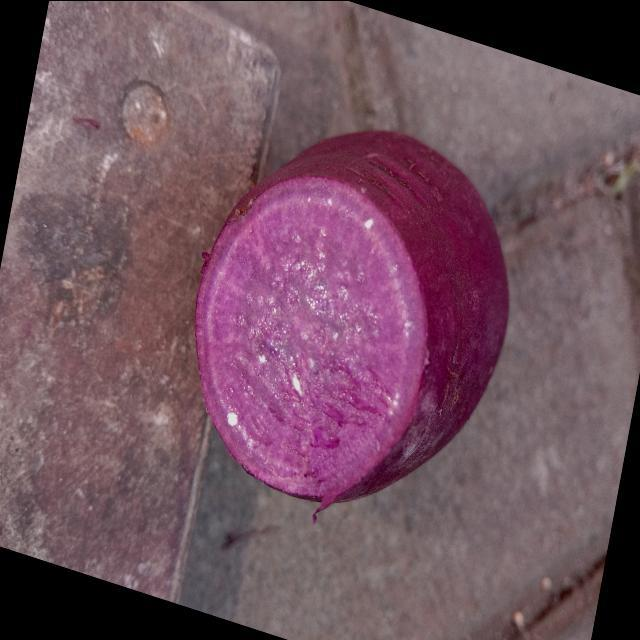Healthy Sweet Potato: (195, 175, 426, 507)
